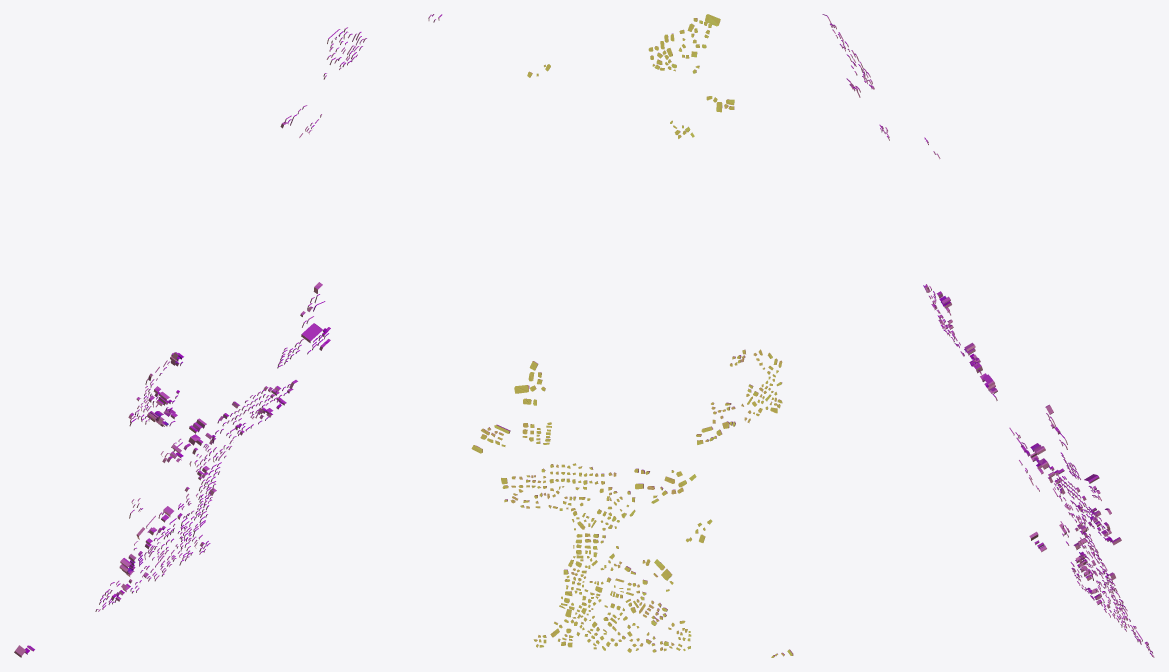
3 views of the same model, side by side, from view 1: azimuth 30°, elevation 25°; view 2: azimuth 150°, elevation 25°; view 3: azimuth 270°, elevation 25° (orthographic). The views are drawn at different scales.
Visible parts, largest first — view 1: geometry_0; view 2: geometry_0; view 3: geometry_0.
Part boxes in pixels (box(x1,y1,x2,y2)): geometry_0: box(14, 14, 442, 657); geometry_0: box(471, 14, 793, 657); geometry_0: box(822, 14, 1154, 657).
Size of the model in its own units: 839 by 1406 by 676.
